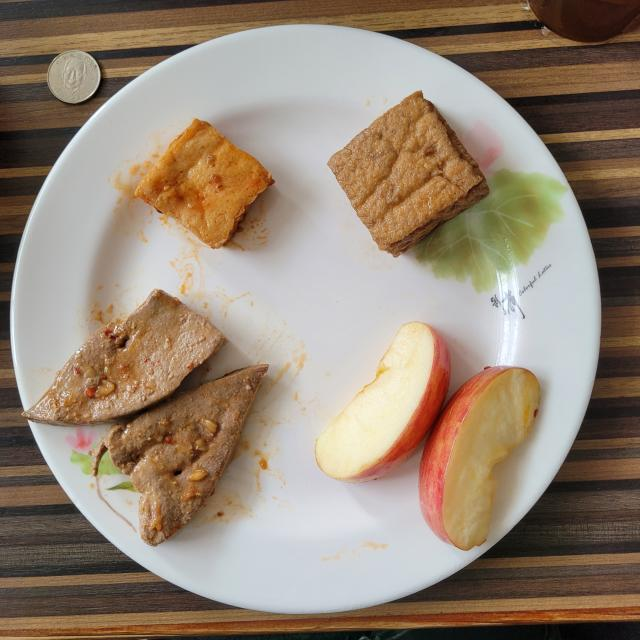apple -sliced-: (315, 322, 540, 550)
coin: (48, 50, 101, 104)
creamy tofu: (135, 119, 274, 249)
egg tofu: (328, 91, 489, 256)
pig liver: (24, 290, 268, 545)
